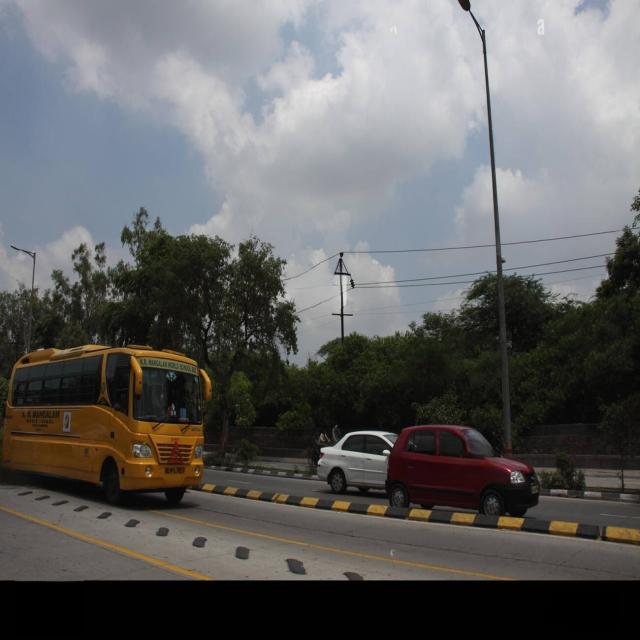bus: (4, 345, 211, 503)
car: (385, 425, 540, 517), (318, 430, 396, 493)
